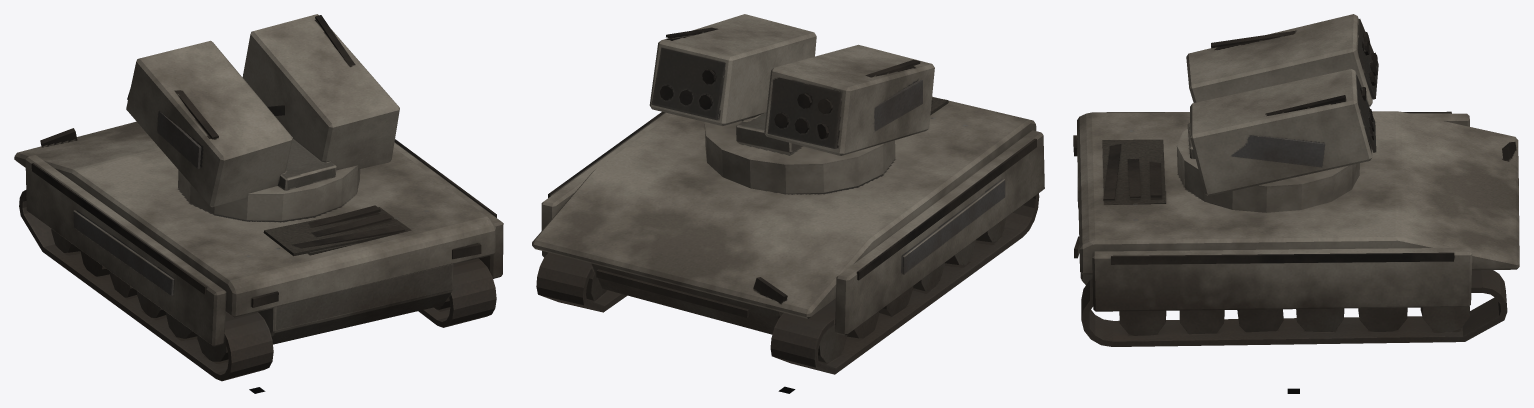
The model's file is ord_gemini_wreck.fbx.
The picture shows the model from 3 angles, left to right: view 1: azimuth 30°, elevation 25°; view 2: azimuth 150°, elevation 25°; view 3: azimuth 270°, elevation 25°; orthographic projection. The views are drawn at different scales.
Visible parts, largest first — view 1: base_bar, turret_bar, trackL_bar, trackR_bar; view 2: base_bar, turret_bar, trackL_bar, trackR_bar; view 3: base_bar, turret_bar, trackR_bar.
Part boxes in pixels (x1,y1,x2,y2): base_bar: (14,121,503,346); turret_bar: (126,14,399,220); trackL_bar: (19,190,273,381); trackR_bar: (418,258,496,327); base_bar: (532,96,1044,335); turret_bar: (649,14,934,193); trackL_bar: (770,193,1039,374); trackR_bar: (536,252,627,312); base_bar: (1073,111,1519,311); turret_bar: (1176,14,1378,212); trackR_bar: (1081,270,1507,346).
Bounding box in the file's own units: 563 × 607 × 727.
2 materials, 2 textured.
